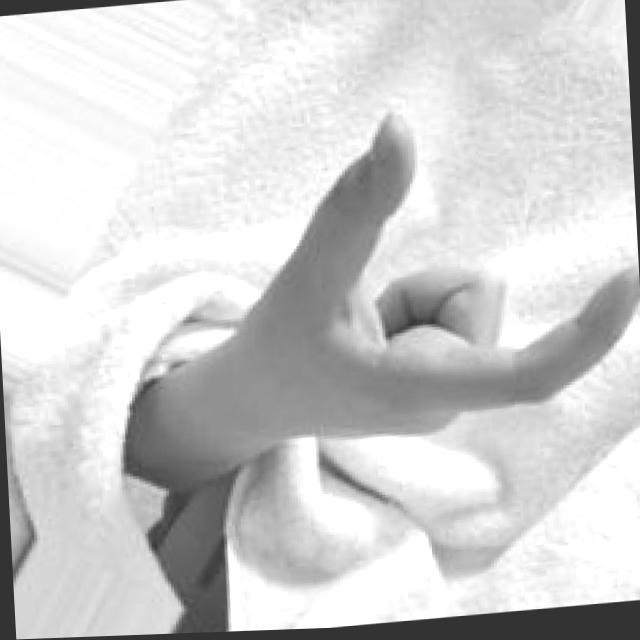U: (222, 87, 640, 458)
